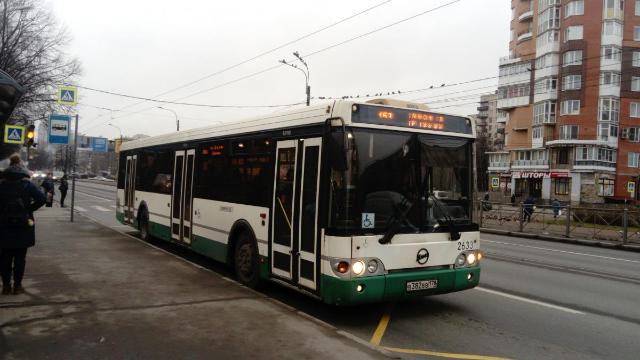bus: (116, 96, 494, 307)
